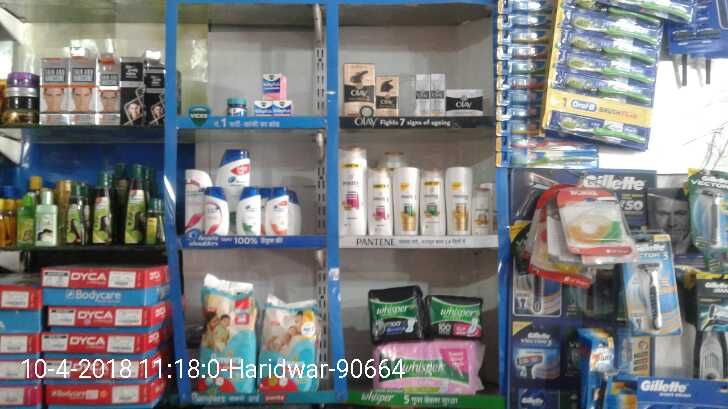gillete: (633, 233, 676, 330), (690, 167, 728, 246), (509, 324, 562, 376), (585, 330, 619, 409), (696, 274, 728, 329), (514, 391, 553, 409)
